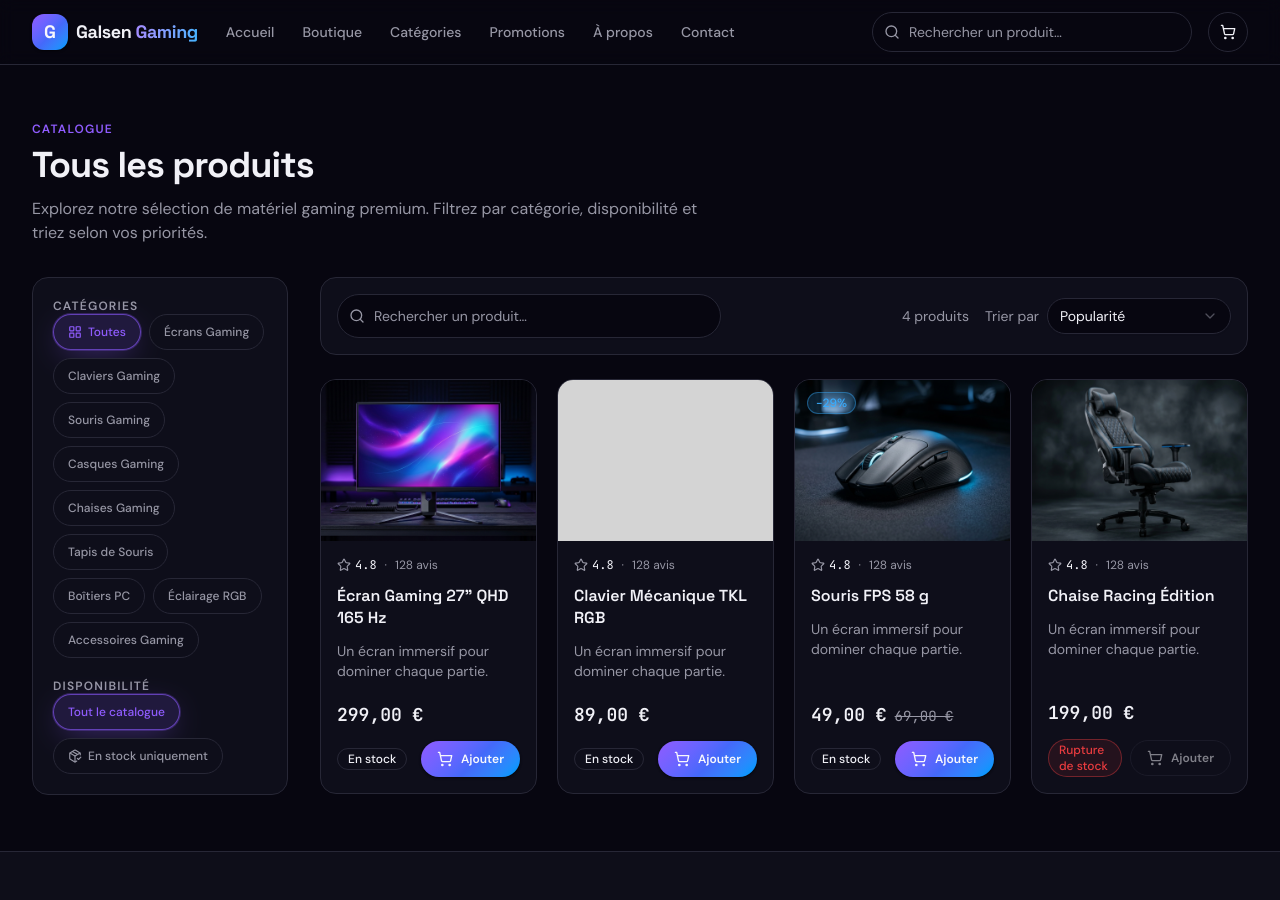
it: ShopPage › sorts products by ascending price
The image size is (1280, 900).
Expected: the link "Écran Gaming 27\" QHD 165 Hz" is shown, x1=337 y1=585 x2=508 y2=628
Click the dropdown labelled "Popularité" at [1139, 316], box x1=1047 y1=298 x2=1231 y2=334
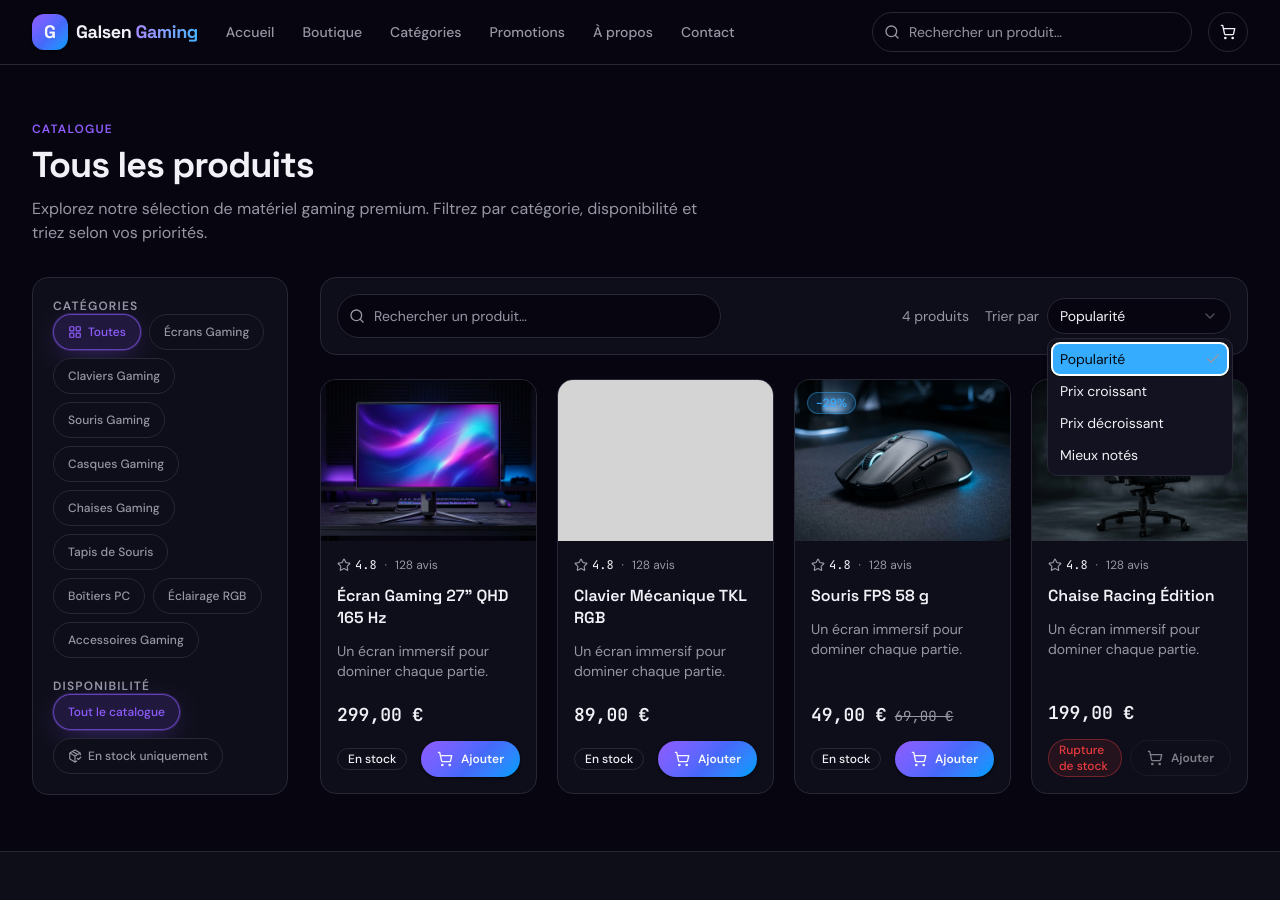
Click the option "Prix croissant" at [1104, 391], box x1=1060 y1=382 x2=1147 y2=400
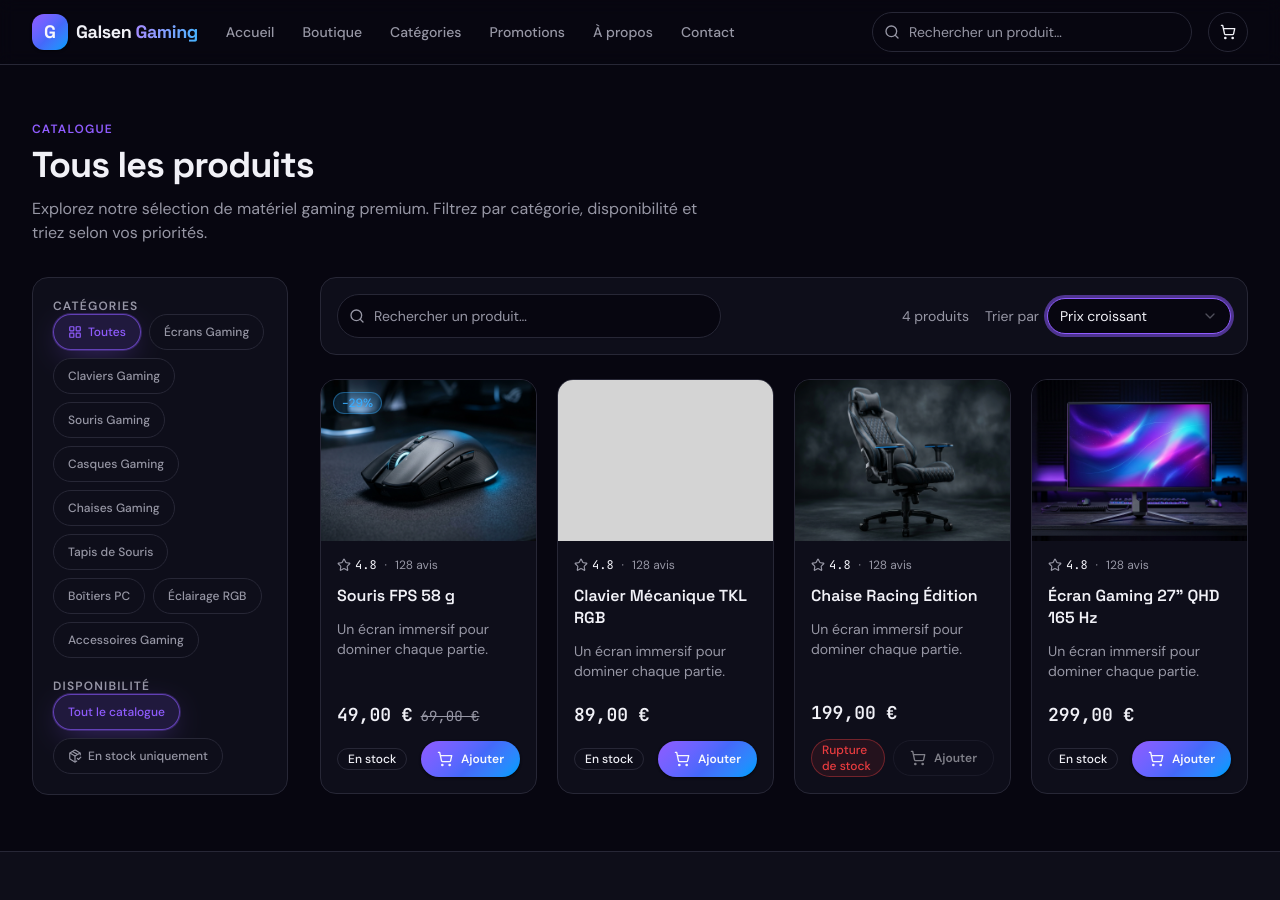
Expected: the element that starts with "avis" shows "Souris FPS 58 g", x1=337 y1=585 x2=455 y2=606
